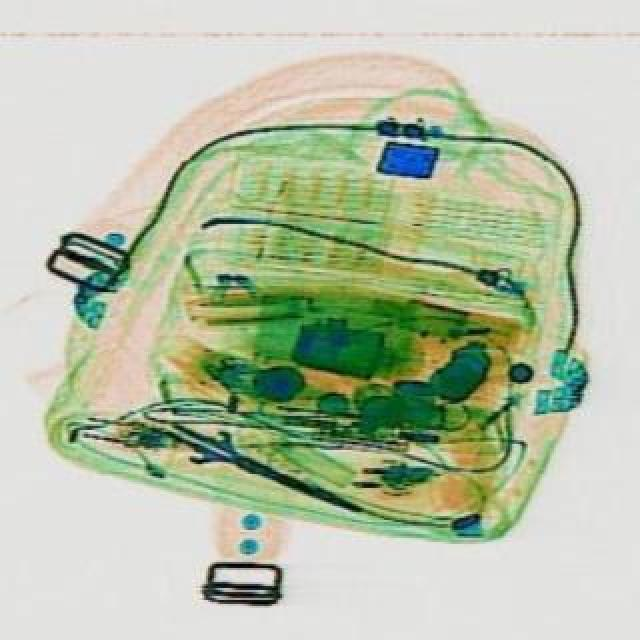knife: (154, 406, 368, 528)
